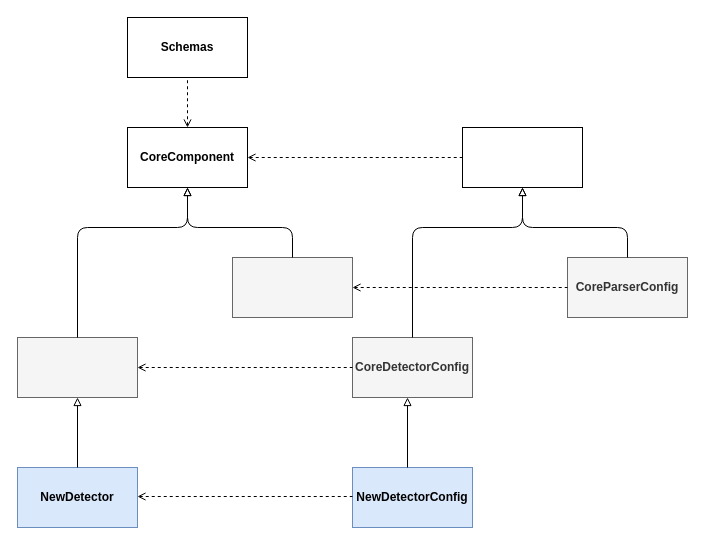
The diagram is 705 pixels wide and 545 high, and some of its shapes have lost their labels. The shapes that lost their labels are listed below. From the top down, each one's centre as x and y in pixels, then its label:
(522,157): CoreConfig
(292,287): CoreParser
(77,367): CoreDetector
